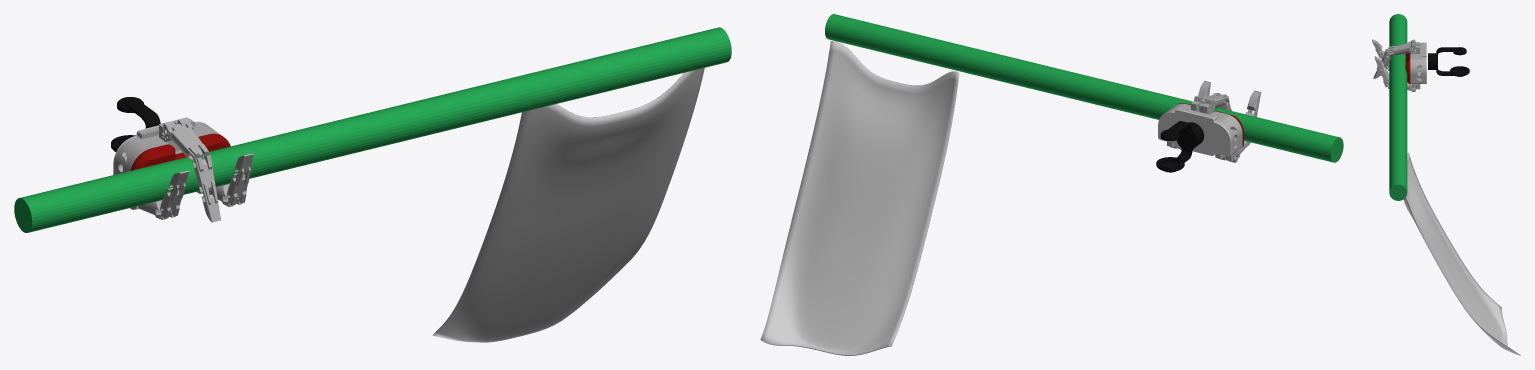
The model's file is HandO2_with_flag.obj.
3 views of the same model, side by side, from view 1: azimuth 30°, elevation 25°; view 2: azimuth 150°, elevation 25°; view 3: azimuth 270°, elevation 25° (orthographic). The views are drawn at different scales.
Visible parts, largest first — view 1: SurfPatch.001_Mesh.001, Cylinder.012_Cylinder.008, Hand_ball_-_palmPadMountingPAD-1.002, Hand_ball_-_Finger_Proximal-2.002, Hand_ball_-_Finger_Distal-3.002, Hand_ball_-_Finger_Distal-1.002, Hand_ball_-_Finger_Distal-2.002, wrist_yaw_right.003, Hand_ball_-_ShaftSupport-1.002, Hand_ball_-_FingerMountingTopPlate-1.002; view 2: SurfPatch.001_Mesh.001, Cylinder.012_Cylinder.008, Hand_ball_-_ShaftSupport_underplate-1.002, wrist_yaw_right.003; view 3: SurfPatch.001_Mesh.001, Cylinder.012_Cylinder.008, wrist_yaw_right.003, Hand_ball_-_Finger_Proximal-2.002, Hand_ball_-_ShaftSupport-1.002, Hand_ball_-_FingerMountingTopPlate-1.002, Hand_ball_-_Finger_Distal-1.002, wrist_yaw_right_flange.003, Hand_ball_-_Finger_Distal-3.002, Hand_ball_-_Finger_Distal-2.002, Hand_ball_-_palmPadMountingPAD-1.002, Cylinder.003.
Boxes of the visible parts, <box> form: SurfPatch.001_Mesh.001: <box>432,68,704,342</box>; Cylinder.012_Cylinder.008: <box>14,27,731,232</box>; Hand_ball_-_palmPadMountingPAD-1.002: <box>130,133,230,170</box>; Hand_ball_-_Finger_Proximal-2.002: <box>163,117,209,160</box>; Hand_ball_-_Finger_Distal-3.002: <box>192,155,220,222</box>; Hand_ball_-_Finger_Distal-1.002: <box>226,153,253,205</box>; Hand_ball_-_Finger_Distal-2.002: <box>160,170,189,218</box>; wrist_yaw_right.003: <box>117,97,160,128</box>; Hand_ball_-_ShaftSupport-1.002: <box>114,119,209,174</box>; Hand_ball_-_FingerMountingTopPlate-1.002: <box>124,125,218,171</box>; SurfPatch.001_Mesh.001: <box>760,41,959,355</box>; Cylinder.012_Cylinder.008: <box>825,14,1343,162</box>; Hand_ball_-_ShaftSupport_underplate-1.002: <box>1158,109,1231,156</box>; wrist_yaw_right.003: <box>1160,121,1198,172</box>; SurfPatch.001_Mesh.001: <box>1403,152,1520,355</box>; Cylinder.012_Cylinder.008: <box>1389,14,1407,200</box>; wrist_yaw_right.003: <box>1436,47,1466,76</box>; Hand_ball_-_Finger_Proximal-2.002: <box>1388,39,1415,55</box>; Hand_ball_-_ShaftSupport-1.002: <box>1414,42,1425,83</box>; Hand_ball_-_FingerMountingTopPlate-1.002: <box>1413,43,1421,83</box>; Hand_ball_-_Finger_Distal-1.002: <box>1374,56,1389,87</box>; wrist_yaw_right_flange.003: <box>1450,66,1469,76</box>; Hand_ball_-_Finger_Distal-3.002: <box>1373,48,1390,78</box>; Hand_ball_-_Finger_Distal-2.002: <box>1372,39,1389,69</box>; Hand_ball_-_palmPadMountingPAD-1.002: <box>1405,53,1410,83</box>; Cylinder.003: <box>1428,53,1436,69</box>.
Size of the model in its own units: 0.9421 by 0.4993 by 0.347.
